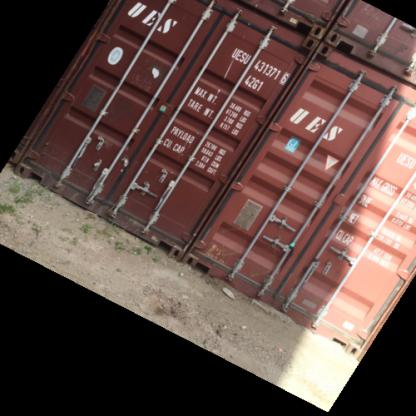Damage: (29, 148, 269, 231)
